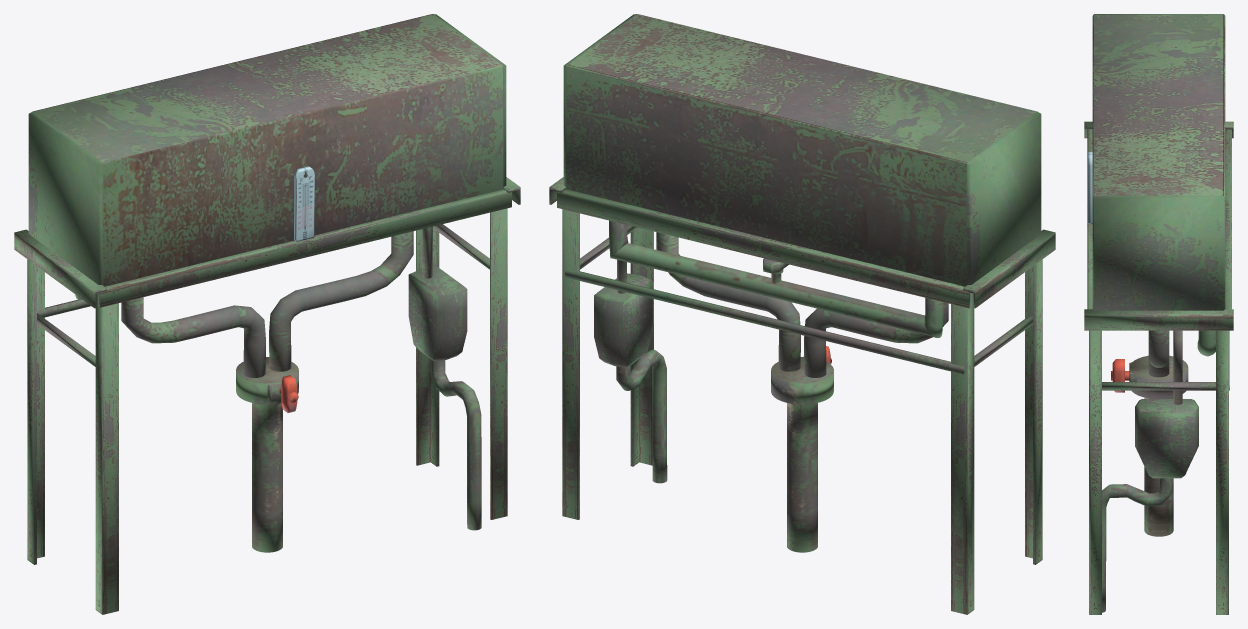
Rendered from IndustrialTube02.fbx.
3 views of the same model, side by side, from view 1: azimuth 30°, elevation 25°; view 2: azimuth 150°, elevation 25°; view 3: azimuth 270°, elevation 25° (orthographic). The views are drawn at different scales.
Visible parts, largest first — view 1: Cube.008; view 2: Cube.008; view 3: Cube.008.
Boxes of the visible parts, x1=… form: Cube.008: x1=14, y1=14, x2=520, y2=614; Cube.008: x1=549, y1=14, x2=1055, y2=614; Cube.008: x1=1084, y1=14, x2=1233, y2=614.
Bounding box in the file's own units: 331 × 340 × 108.
